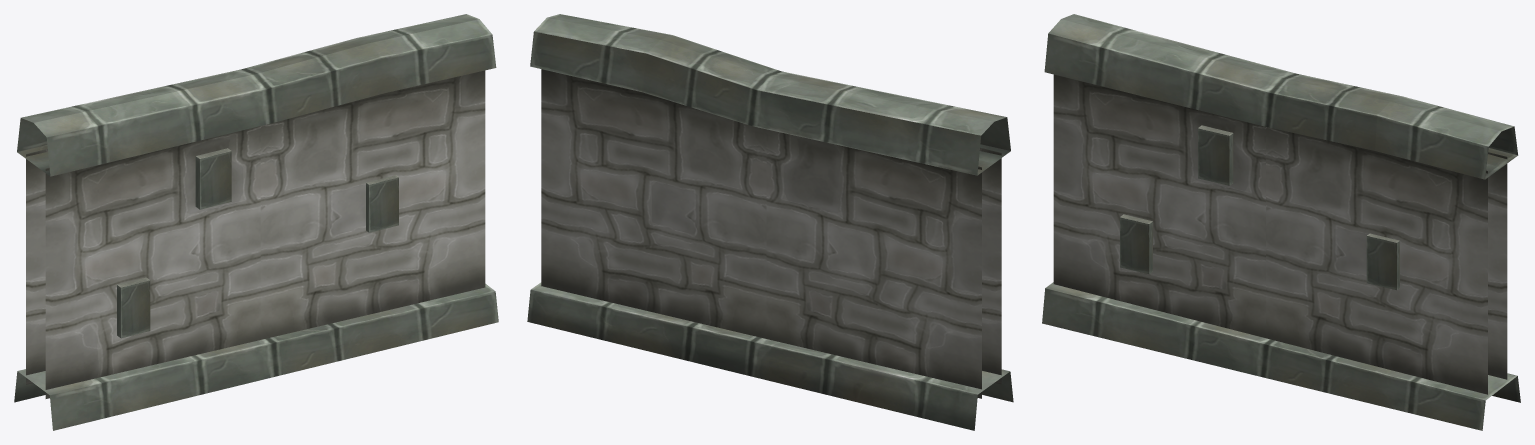
The model's file is wall_01a_tile_02.fbx.
3 renders of one model, left to right at view 1: azimuth 30°, elevation 25°; view 2: azimuth 150°, elevation 25°; view 3: azimuth 330°, elevation 25°, orthographic.
Visible parts, largest first — view 1: wall_01a_tile_02:Mesh; view 2: wall_01a_tile_02:Mesh; view 3: wall_01a_tile_02:Mesh.
Boxes of the visible parts, x1,y1,x2,y2 form: wall_01a_tile_02:Mesh: (14, 14, 498, 430); wall_01a_tile_02:Mesh: (527, 14, 1013, 430); wall_01a_tile_02:Mesh: (1042, 14, 1520, 430).
Bounding box in the file's own units: 4.04 × 2.55 × 0.6094.
